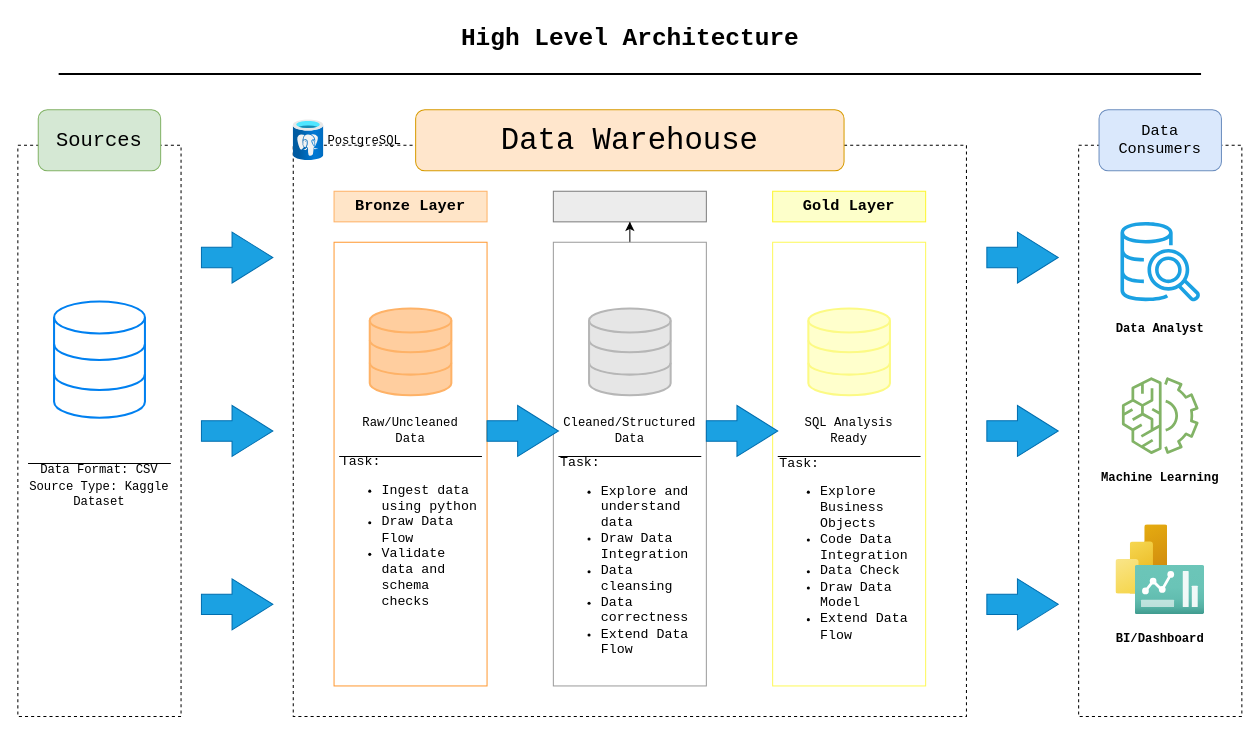
The diagram is 1260 pixels wide and 734 high, and some of its shapes have lost their labels. Here are the shapes that lost their labels. From the top down, the centre of each, then its label:
At (629,206): "Silver Layer".
At (99,359): "TMDB Movies Dataset".
